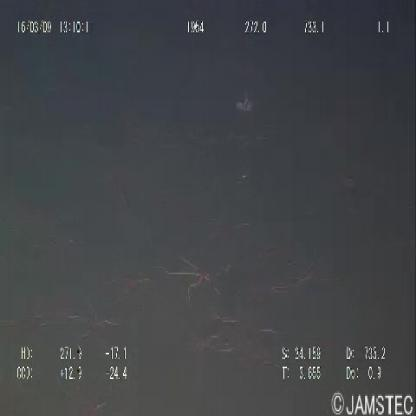Bio: (160, 245, 230, 304)
